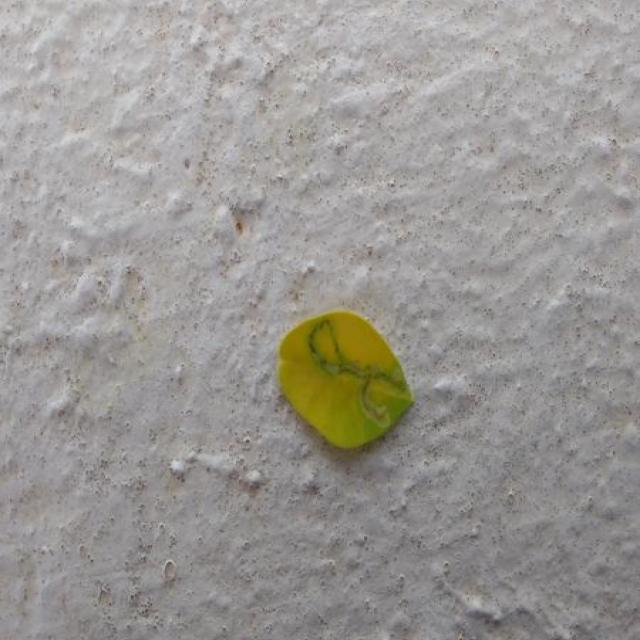drumstick: (278, 311, 413, 448)
